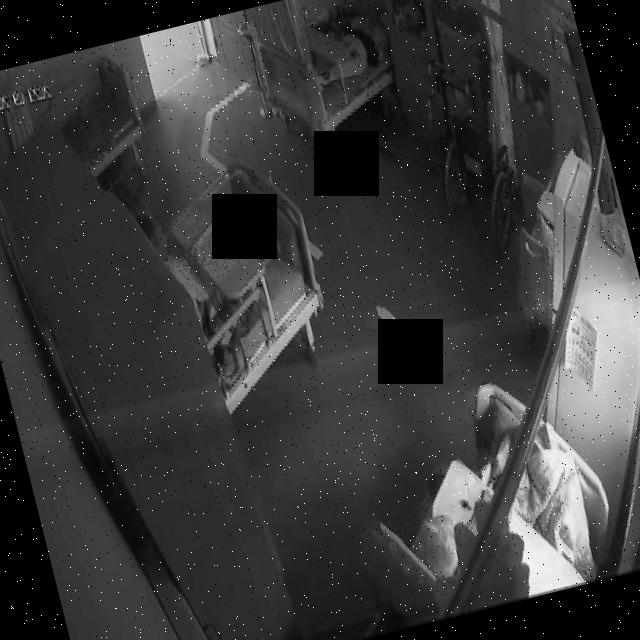bed: (338, 359, 626, 632), (144, 152, 340, 408), (249, 0, 404, 143), (45, 48, 153, 182)
